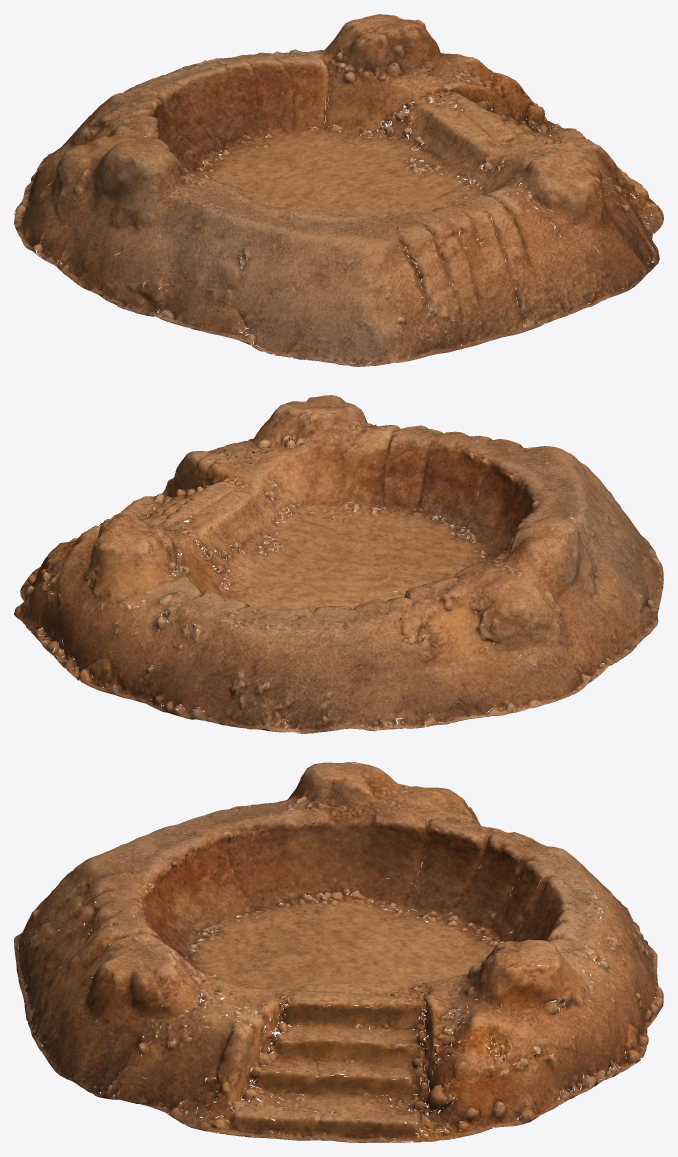
The model's file is claypit_mid.glb.
3 views of the same model, one above another, from view 1: azimuth 30°, elevation 25°; view 2: azimuth 150°, elevation 25°; view 3: azimuth 270°, elevation 25° (orthographic). The views are drawn at different scales.
Parts seen in each view (by area): view 1: model; view 2: model; view 3: model.
Boxes of the visible parts, x1,y1,x2,y2 form: model: [14, 14, 663, 366]; model: [14, 395, 663, 733]; model: [14, 762, 663, 1142].
Size of the model in its own units: 0.9992 by 0.2326 by 0.9855.
Materials: 1 (1 with a texture image).
